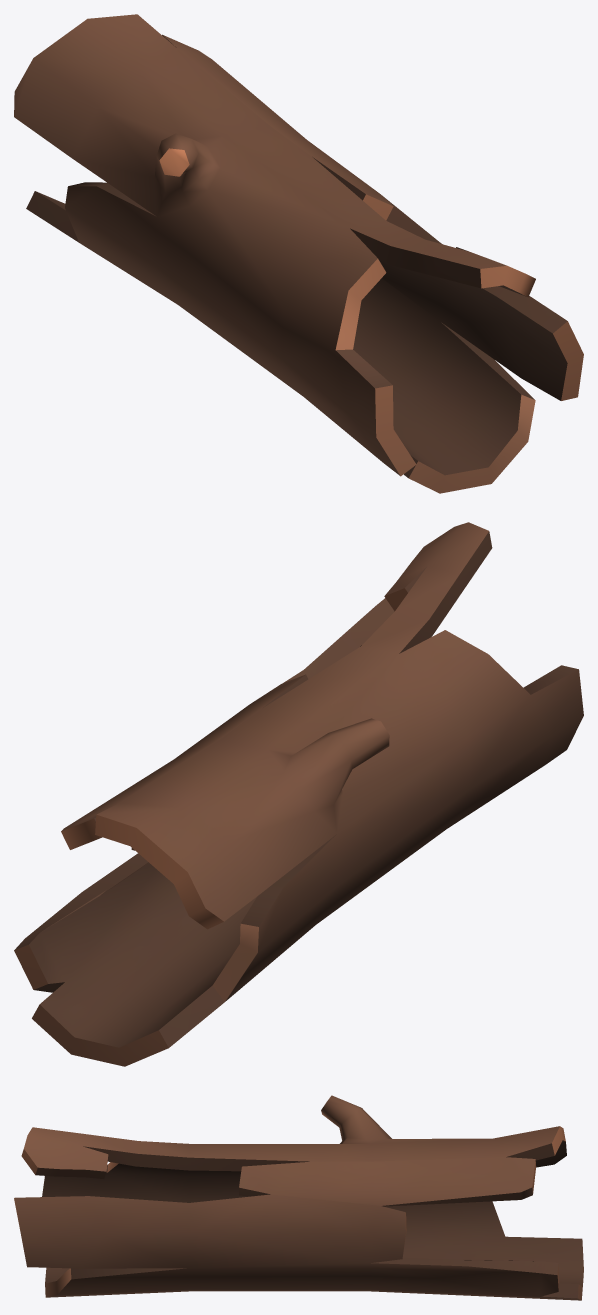
File: Tree_Log_1A.fbx
3 renders of one model, top to bottom at view 1: azimuth 30°, elevation 25°; view 2: azimuth 150°, elevation 25°; view 3: azimuth 270°, elevation 25°, orthographic. The views are drawn at different scales.
Parts seen in each view (by area): view 1: Tree_Log_1A; view 2: Tree_Log_1A; view 3: Tree_Log_1A.
Part boxes in pixels (x1,y1,x2,y2): Tree_Log_1A: (14,14,583,493); Tree_Log_1A: (14,522,583,1066); Tree_Log_1A: (14,1095,583,1300).
Size of the model in its own units: 63.69 by 67.35 by 210.
